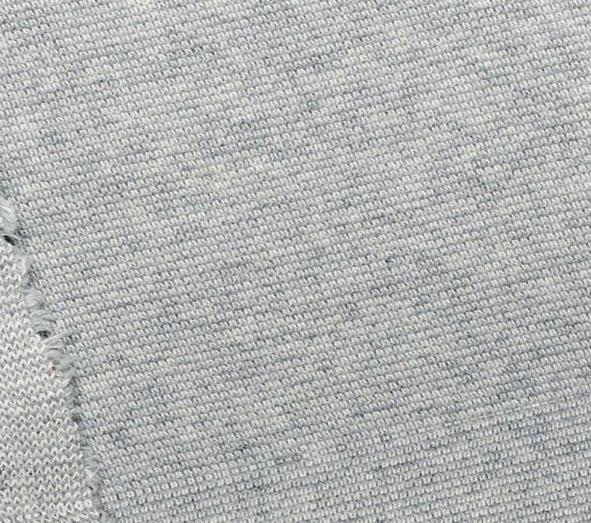slub: (2, 191, 112, 521)
